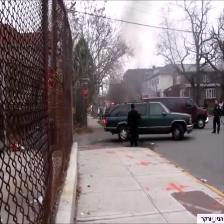smoke: (106, 33, 152, 104)
